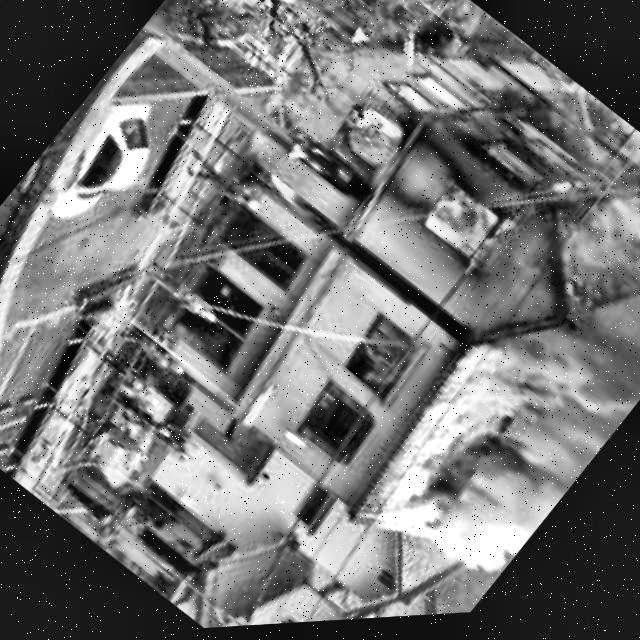Fire: (404, 176, 517, 294), (234, 154, 336, 253), (341, 314, 428, 405), (383, 60, 469, 147), (286, 134, 367, 215)
Smoke: (336, 192, 640, 624)
